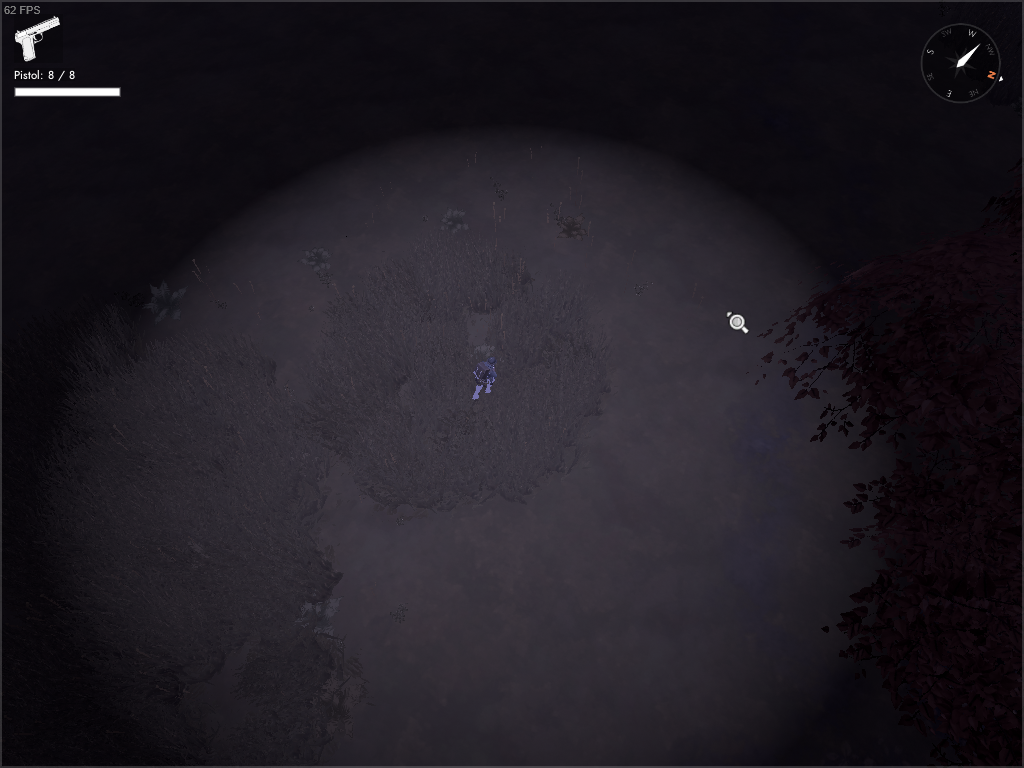player: (468, 353, 502, 404)
